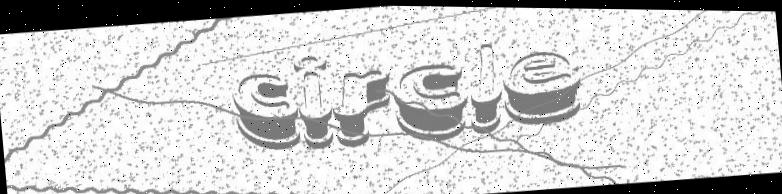c: (391, 60, 469, 142), (232, 69, 302, 152)
e: (500, 47, 584, 125)
i: (294, 54, 335, 148)
l: (468, 41, 503, 131)
r: (331, 66, 395, 148)
